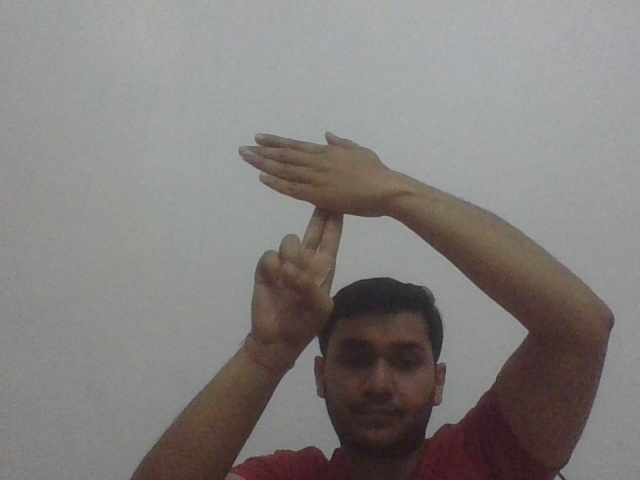N: (233, 126, 377, 246)
